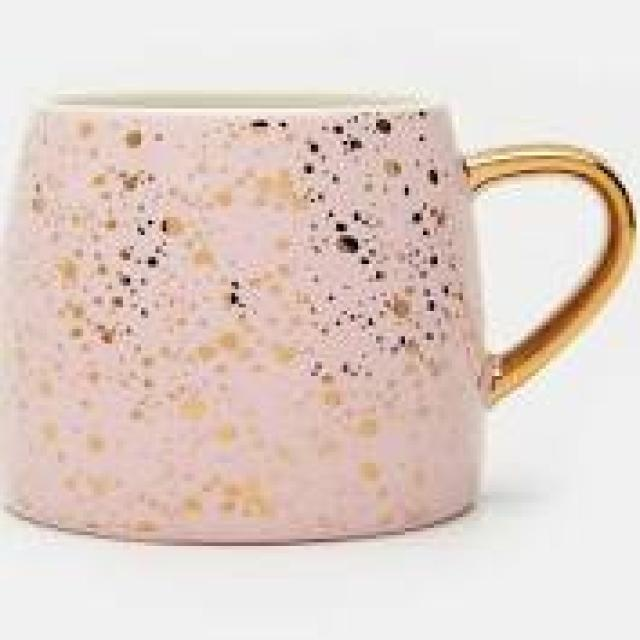taza: (3, 86, 640, 553)
